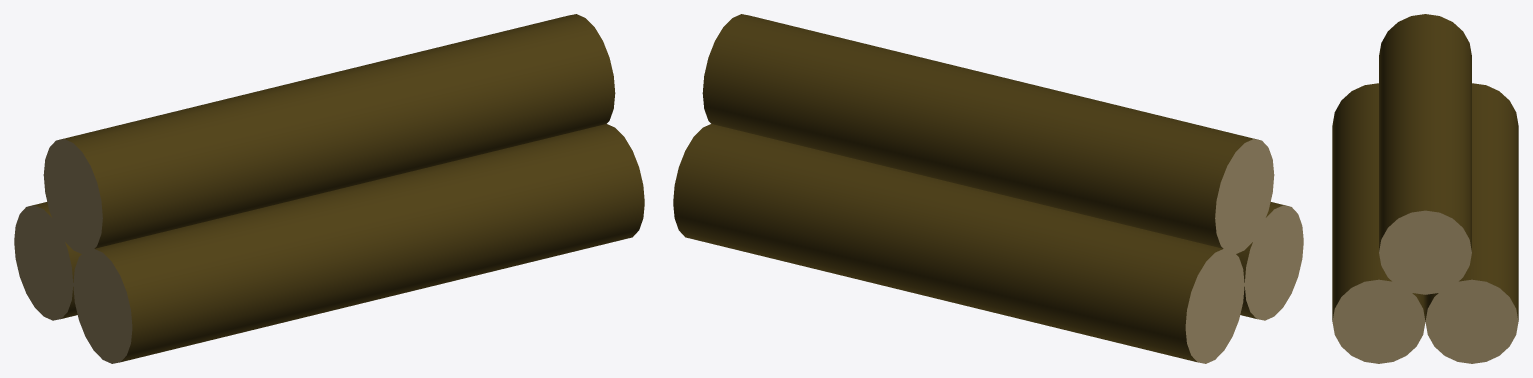
Rendered from Logs.fbx.
The picture shows the model from 3 angles, left to right: view 1: azimuth 30°, elevation 25°; view 2: azimuth 150°, elevation 25°; view 3: azimuth 270°, elevation 25°; orthographic projection. The views are drawn at different scales.
Visible parts, largest first — view 1: pCylinder6; view 2: pCylinder6; view 3: pCylinder6.
Boxes of the visible parts, x1,y1,x2,y2 form: pCylinder6: (14,14,644,363); pCylinder6: (673,14,1303,363); pCylinder6: (1332,14,1518,363).
Size of the model in its own units: 7.85 by 2.86 by 3.14.
